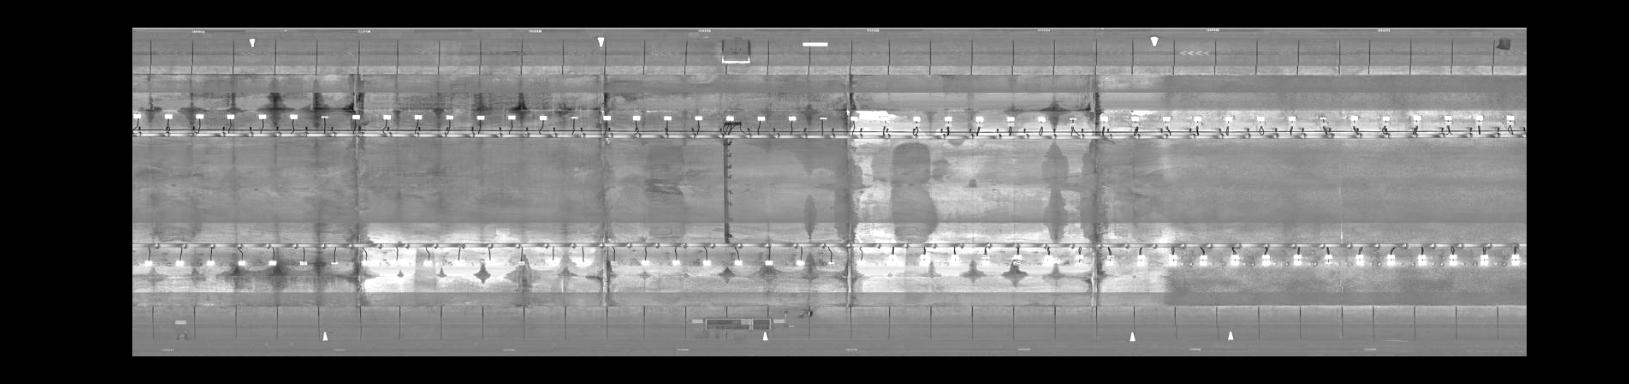light: (1255, 251, 1274, 269), (1287, 252, 1306, 269), (1321, 251, 1341, 267), (1068, 252, 1092, 265), (1225, 251, 1241, 268), (1250, 110, 1269, 124), (1351, 252, 1369, 266), (604, 257, 623, 270), (1130, 253, 1150, 266), (979, 252, 995, 267), (1165, 253, 1181, 268), (1196, 254, 1212, 269), (472, 111, 489, 125), (139, 257, 158, 270), (876, 112, 894, 125), (1382, 252, 1400, 265), (1311, 112, 1331, 124), (203, 256, 219, 270), (1004, 112, 1020, 126), (1102, 255, 1119, 269), (294, 257, 312, 270), (1093, 112, 1111, 125), (233, 257, 251, 269), (513, 257, 532, 269), (575, 257, 593, 269), (1038, 253, 1057, 265), (255, 110, 270, 124), (1011, 252, 1026, 266), (421, 256, 437, 269), (698, 257, 715, 270), (885, 254, 902, 267), (1507, 253, 1524, 266), (1438, 113, 1458, 124), (1444, 252, 1464, 263), (544, 257, 562, 269), (792, 257, 809, 269), (1158, 114, 1176, 126), (1500, 112, 1518, 124), (1475, 254, 1493, 266), (949, 251, 962, 266), (379, 111, 395, 124), (1035, 112, 1050, 125), (1407, 114, 1425, 125), (1413, 253, 1428, 266), (316, 111, 332, 122), (597, 112, 614, 124), (1190, 112, 1206, 124), (1221, 114, 1238, 125), (412, 110, 426, 124), (1128, 113, 1142, 127), (349, 110, 364, 122), (667, 257, 683, 269), (754, 112, 770, 124), (908, 113, 924, 125), (265, 259, 282, 270), (729, 258, 746, 269), (940, 114, 957, 125), (328, 256, 342, 269), (1285, 112, 1299, 125), (629, 112, 643, 124), (639, 257, 653, 269), (973, 114, 988, 126), (1346, 112, 1361, 124), (503, 113, 520, 122), (193, 111, 206, 124), (536, 113, 553, 122), (690, 112, 706, 121), (1378, 114, 1394, 124), (172, 257, 186, 269), (1473, 112, 1487, 124), (286, 111, 300, 121), (762, 258, 776, 269), (660, 113, 675, 122), (783, 114, 799, 124), (848, 114, 863, 124), (917, 252, 930, 264), (161, 111, 175, 121), (443, 113, 456, 124), (1066, 114, 1079, 125), (449, 257, 468, 265), (223, 111, 236, 121), (824, 259, 839, 268), (133, 111, 146, 120), (359, 257, 373, 267), (482, 255, 496, 265), (816, 114, 829, 124), (389, 257, 403, 266), (855, 258, 870, 267), (722, 114, 736, 121), (568, 114, 580, 121)
